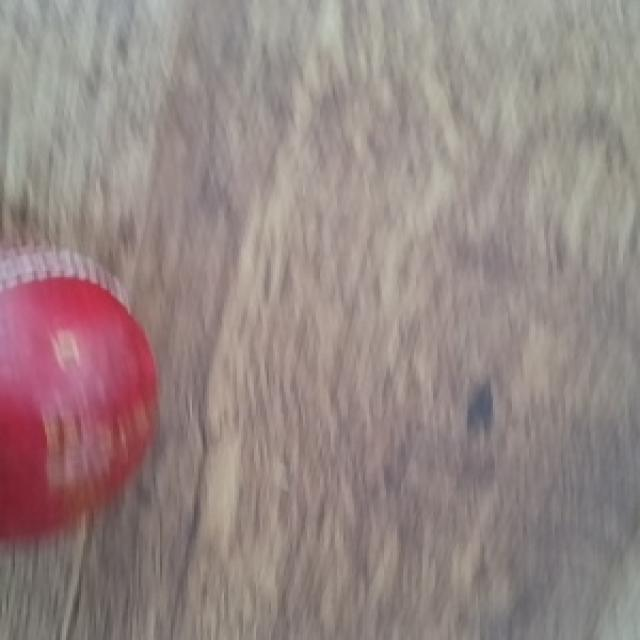ball: (0, 271, 158, 548)
